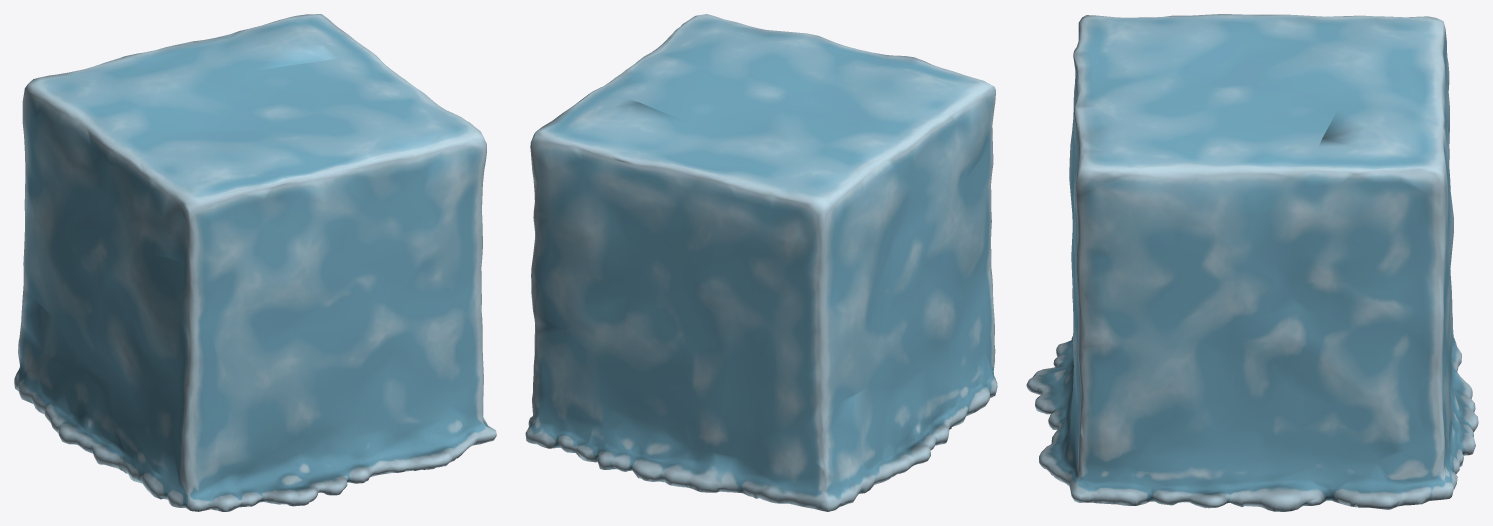
File: MZ4250 - Gelatinous Cube.glb
3 renders of one model, left to right at view 1: azimuth 30°, elevation 25°; view 2: azimuth 150°, elevation 25°; view 3: azimuth 270°, elevation 25°, orthographic. The views are drawn at different scales.
Visible parts, largest first — view 1: Gelatinous_Cube_updated.001; view 2: Gelatinous_Cube_updated.001; view 3: Gelatinous_Cube_updated.001.
Part boxes in pixels (x1,y1,x2,y2): Gelatinous_Cube_updated.001: (14,14,496,511); Gelatinous_Cube_updated.001: (525,14,997,511); Gelatinous_Cube_updated.001: (1026,14,1478,511).
Bounding box in the file's own units: 2.33 × 1.95 × 2.38.
1 material, 1 textured.
